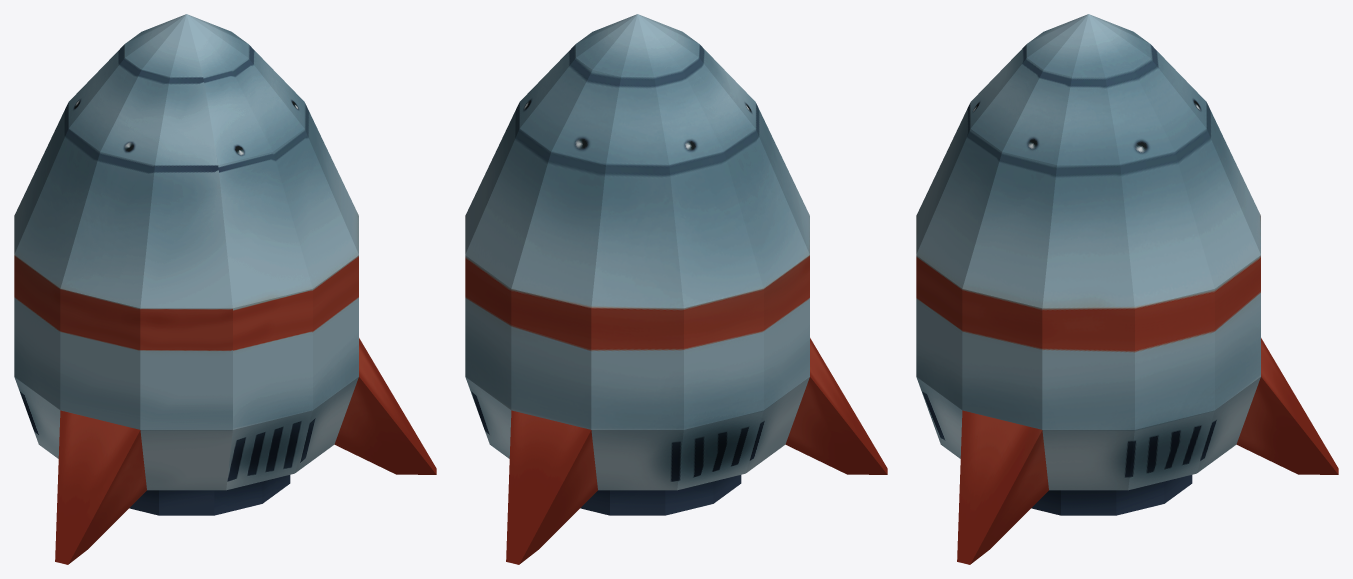
File: Rocket.fbx
3 views of the same model, side by side, from view 1: azimuth 30°, elevation 25°; view 2: azimuth 150°, elevation 25°; view 3: azimuth 270°, elevation 25° (orthographic).
Parts seen in each view (by area): view 1: Circle.298; view 2: Circle.298; view 3: Circle.298.
Part boxes in pixels (bbox=[...]): Circle.298: bbox=[14, 14, 436, 564]; Circle.298: bbox=[465, 14, 887, 564]; Circle.298: bbox=[916, 14, 1338, 564].
Size of the model in its own units: 118 by 136 by 114.
